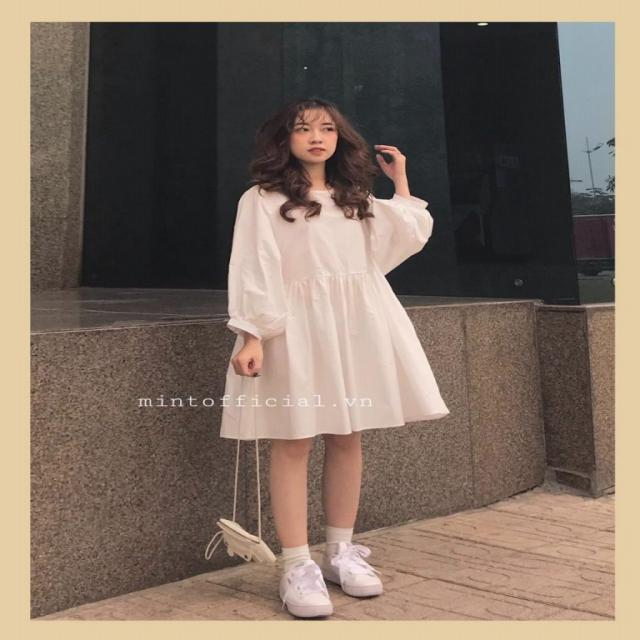clothes: (221, 178, 456, 441)
